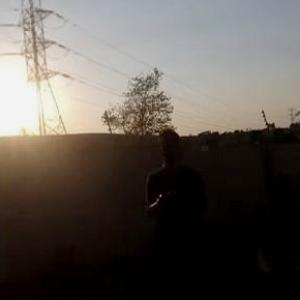follow: (139, 125, 210, 299)
